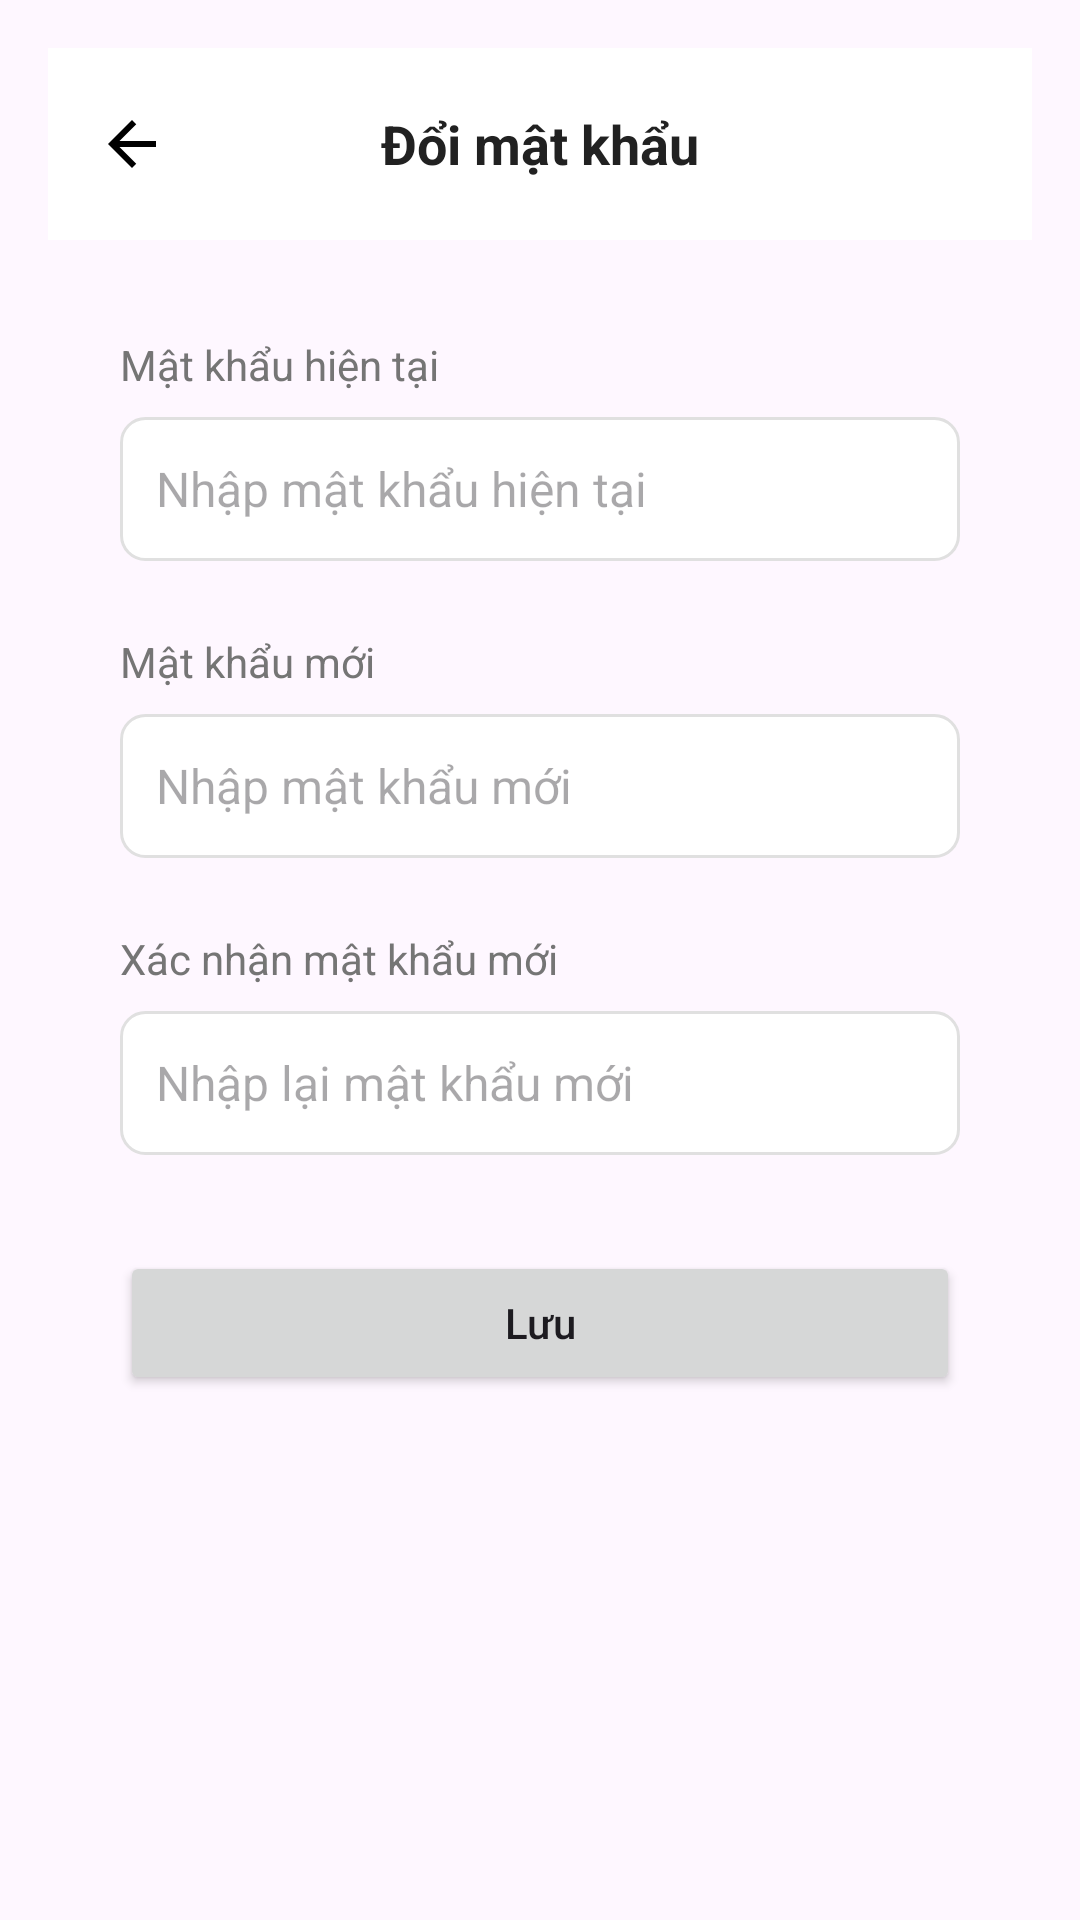

Named icons in this screenshot (1080x1920) and their centers, [x,y]:
Quay lại: [132,144]
